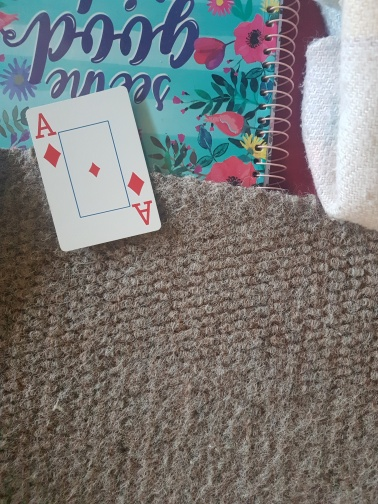ace: (26, 87, 162, 252)
